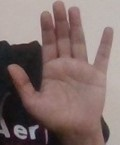Hello: (73, 66, 96, 105)
